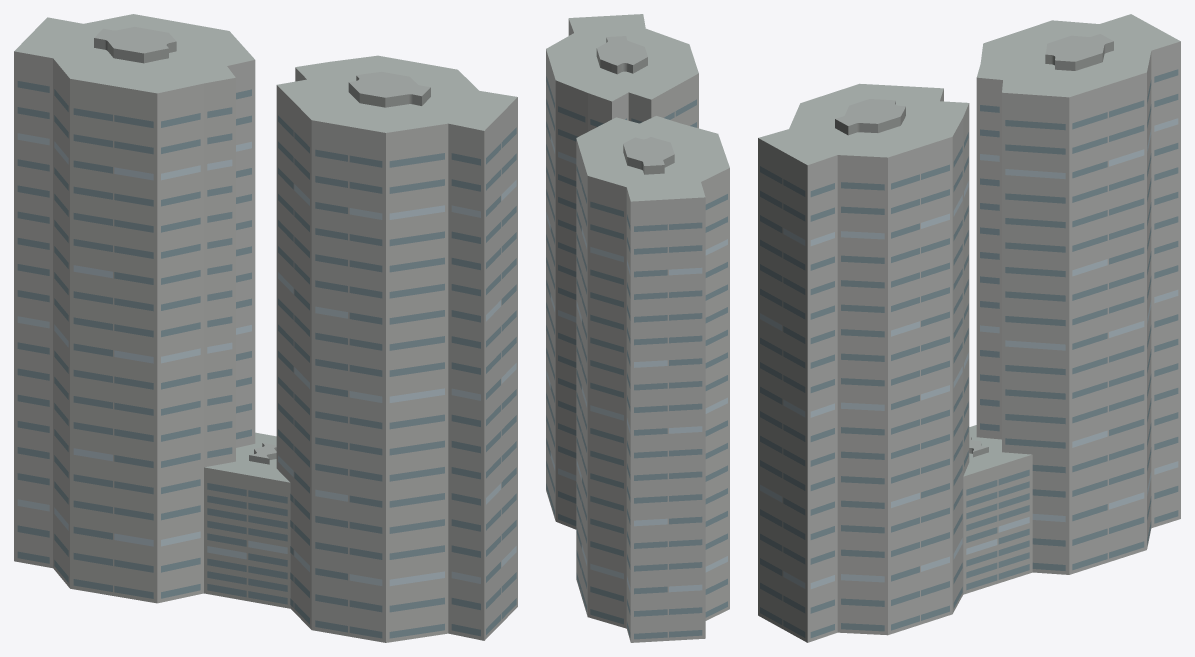
The model's file is apt-a15088614.glb.
3 views of the same model, side by side, from view 1: azimuth 30°, elevation 25°; view 2: azimuth 150°, elevation 25°; view 3: azimuth 270°, elevation 25° (orthographic). The views are drawn at different scales.
Parts seen in each view (by area): view 1: apt-a15088614; view 2: apt-a15088614; view 3: apt-a15088614.
Boxes of the visible parts, left/top/right/bottom form: apt-a15088614: left=14, top=14, right=517, bottom=642; apt-a15088614: left=546, top=14, right=729, bottom=642; apt-a15088614: left=758, top=14, right=1180, bottom=642.
Size of the model in its own units: 83.97 by 126 by 99.15.
